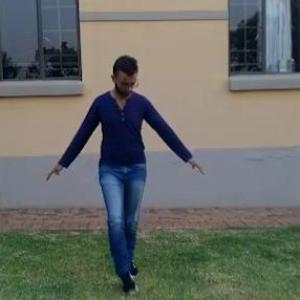land: (52, 35, 214, 281)
